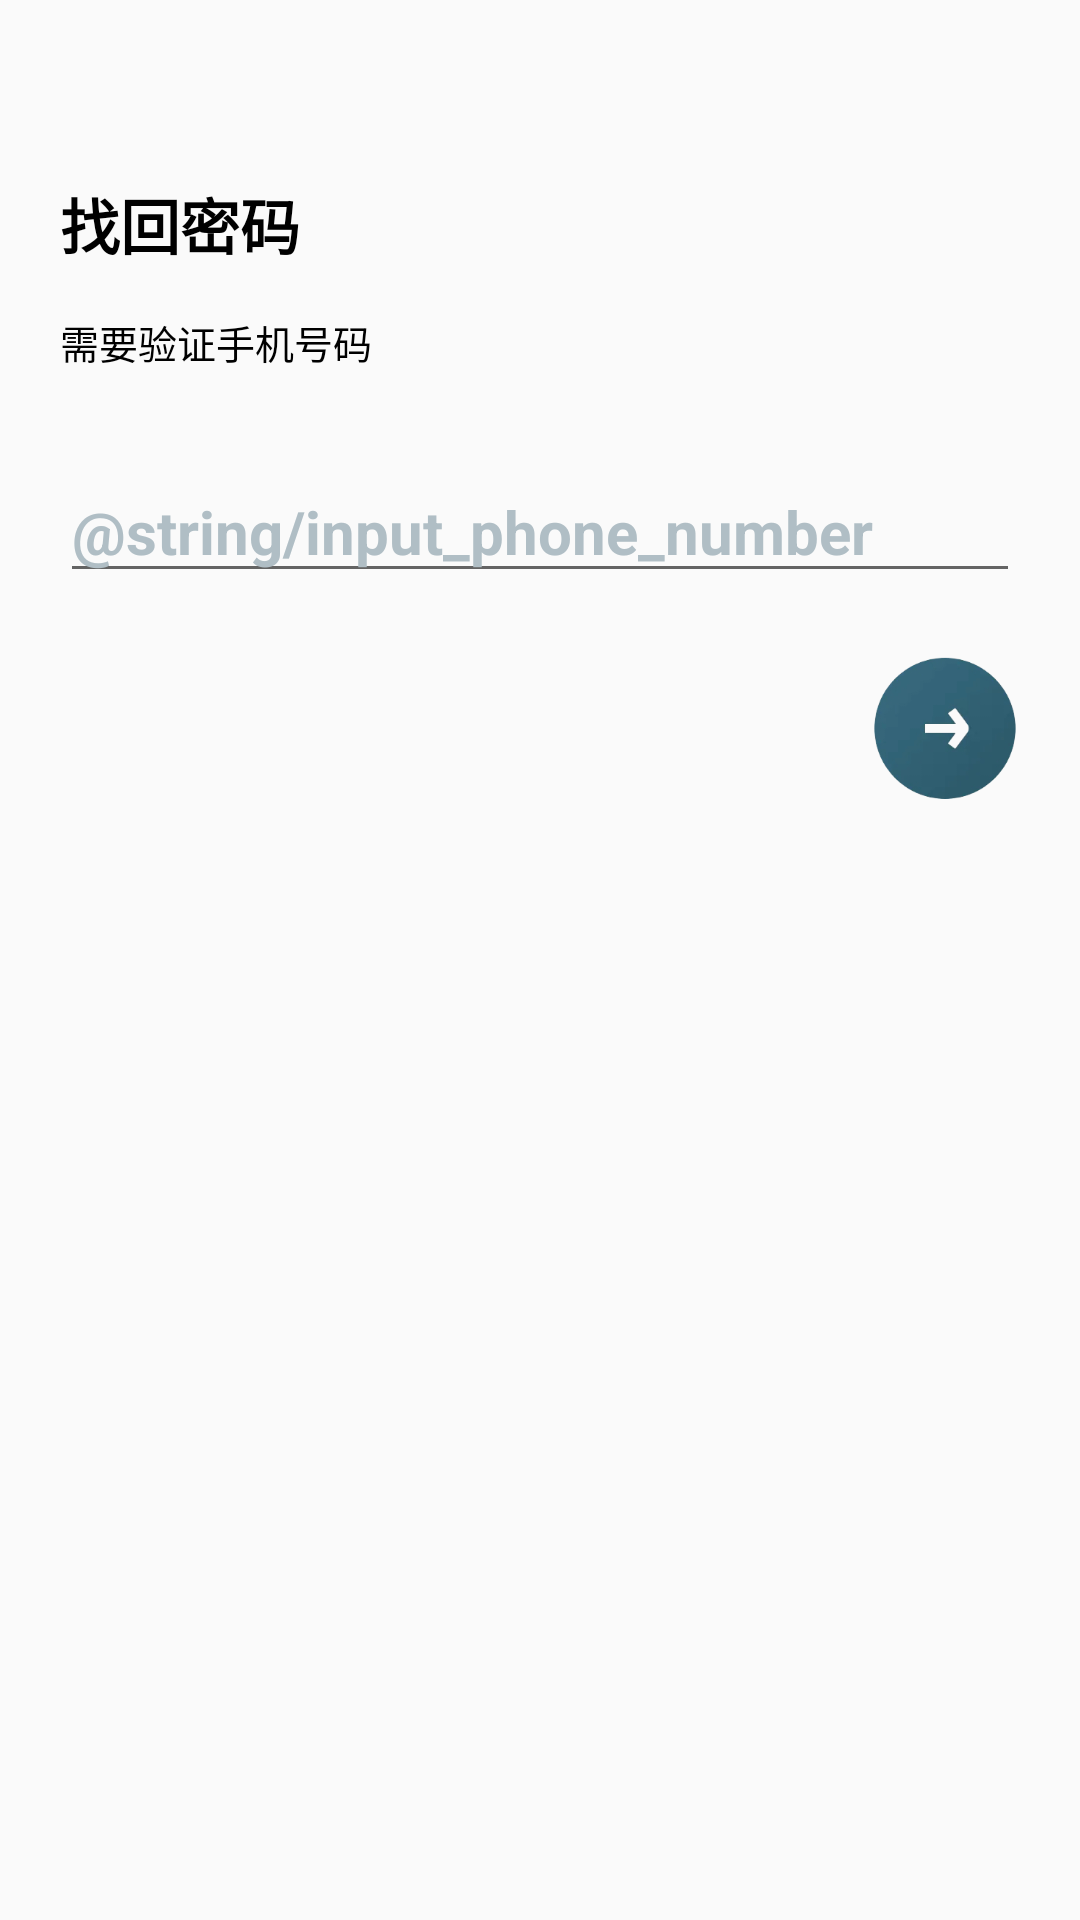

Icon click points for this 1080×1920 phone screenshot, format (x=x, y=y):
get into phone: (x=945, y=728)
